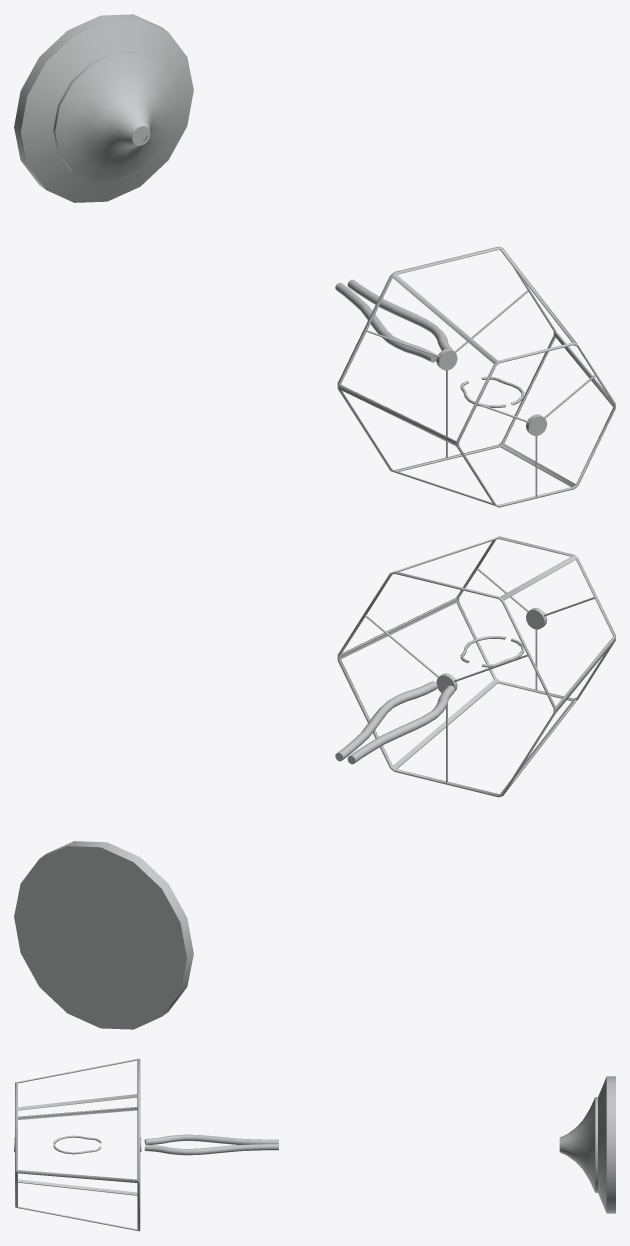
File: MeshFloorLamp_3_0_GeomSubset_1.obj
3 views of the same model, one above another, from view 1: azimuth 30°, elevation 25°; view 2: azimuth 150°, elevation 25°; view 3: azimuth 270°, elevation 25° (orthographic). The views are drawn at different scales.
Visible parts, largest first — view 1: MeshFloorLamp_3_0_GeomSubset_1; view 2: MeshFloorLamp_3_0_GeomSubset_1; view 3: MeshFloorLamp_3_0_GeomSubset_1.
Part boxes in pixels (x1,y1,x2,y2): MeshFloorLamp_3_0_GeomSubset_1: (14,14,615,507); MeshFloorLamp_3_0_GeomSubset_1: (14,536,615,1029); MeshFloorLamp_3_0_GeomSubset_1: (14,1058,615,1231).
Size of the model in its own units: 0.5496 by 0.4824 by 1.91.
